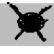not correct: (5, 1, 52, 43)
